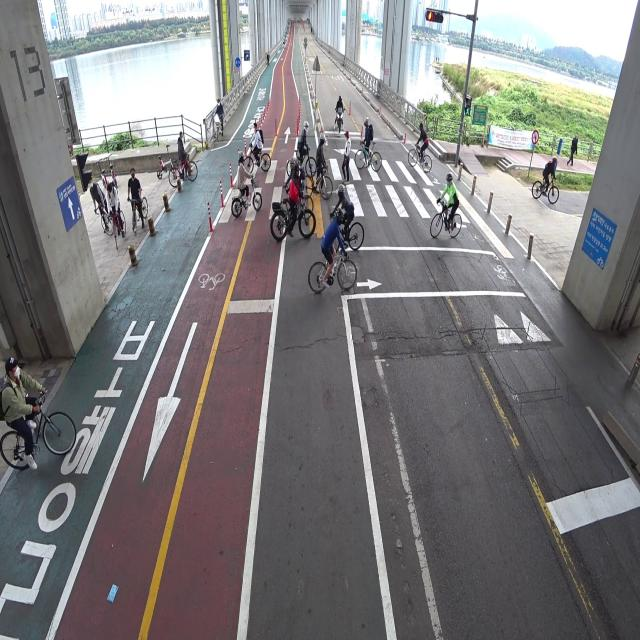Motorcycle: (332, 94, 346, 135)
